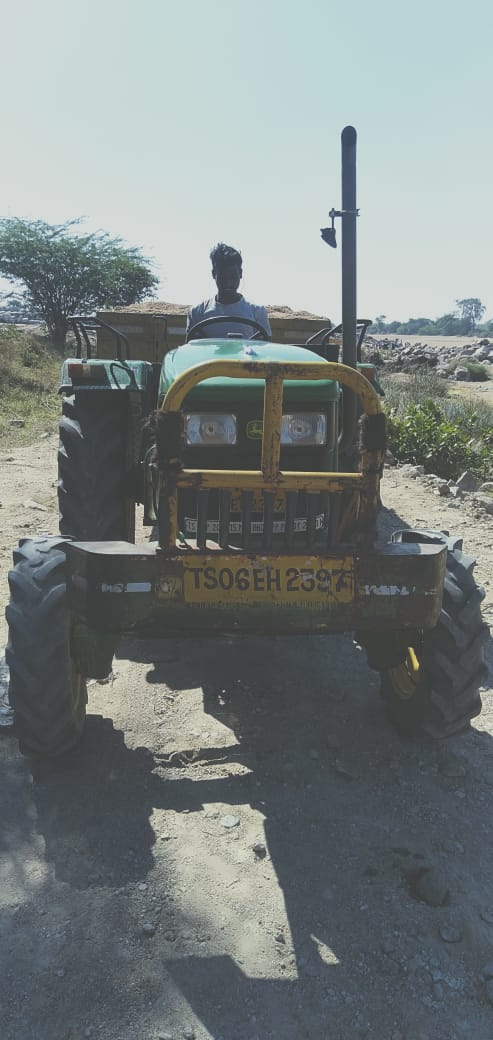num_plate: (177, 555, 357, 603)
